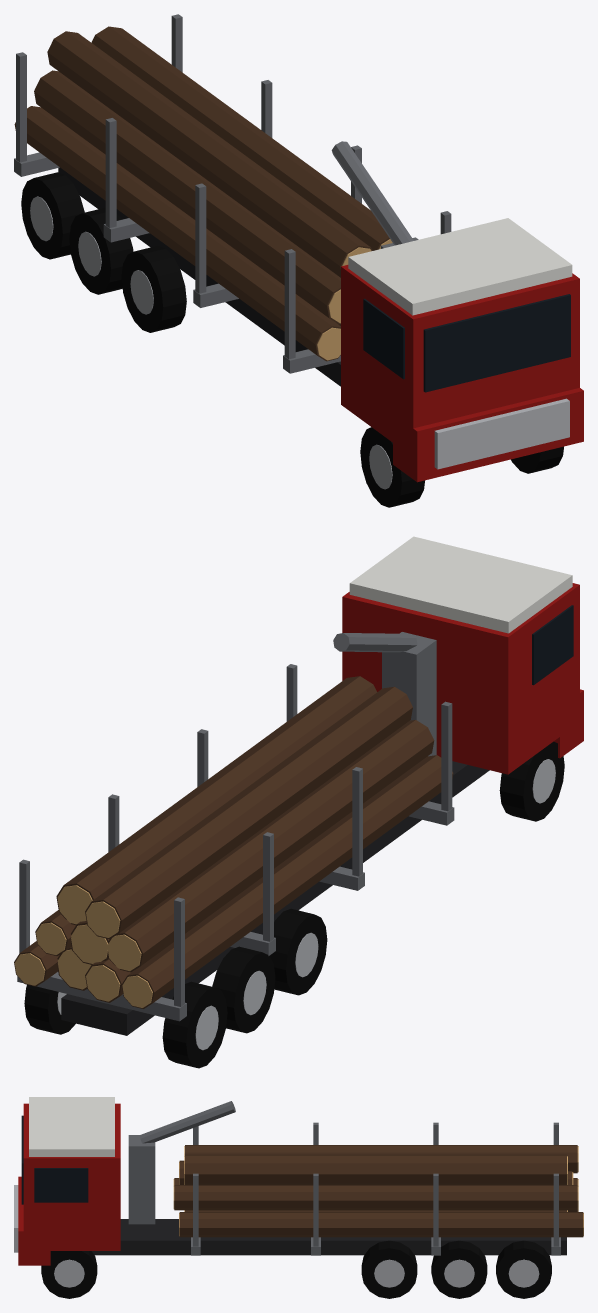
The model's file is SM_logging_truck.fbx.
3 renders of one model, top to bottom at view 1: azimuth 30°, elevation 25°; view 2: azimuth 150°, elevation 25°; view 3: azimuth 270°, elevation 25°, orthographic. The views are drawn at different scales.
Visible parts, largest first — view 1: SM_logging_truck; view 2: SM_logging_truck; view 3: SM_logging_truck.
Boxes of the visible parts, x1,y1,x2,y2 form: SM_logging_truck: (14, 14, 583, 507); SM_logging_truck: (14, 536, 583, 1068); SM_logging_truck: (14, 1097, 583, 1298).
Bounding box in the file's own units: 2.45 × 3.51 × 10.59.
